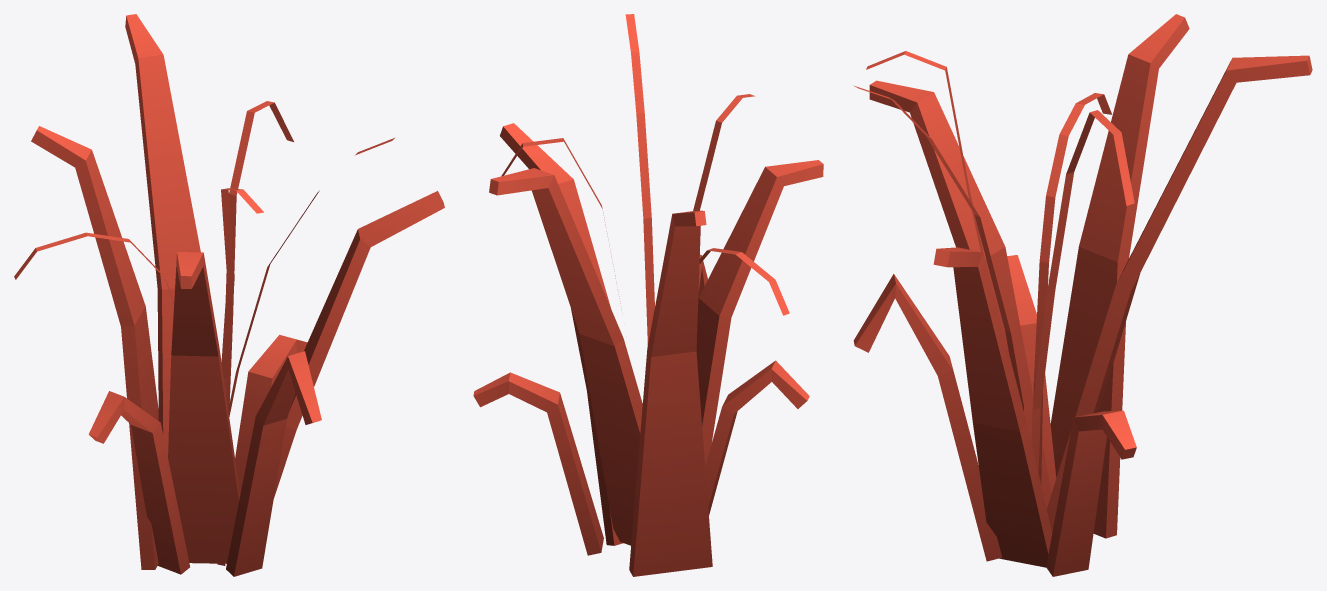
Rendered from RedGrass2.fbx.
3 views of the same model, side by side, from view 1: azimuth 30°, elevation 25°; view 2: azimuth 150°, elevation 25°; view 3: azimuth 270°, elevation 25° (orthographic). The views are drawn at different scales.
Visible parts, largest first — view 1: RedGrass2; view 2: RedGrass2; view 3: RedGrass2.
Part boxes in pixels (<box>): RedGrass2: <box>14,14,444,576</box>; RedGrass2: <box>473,14,823,576</box>; RedGrass2: <box>853,14,1312,576</box>.
Size of the model in its own units: 146 by 179 by 142.
